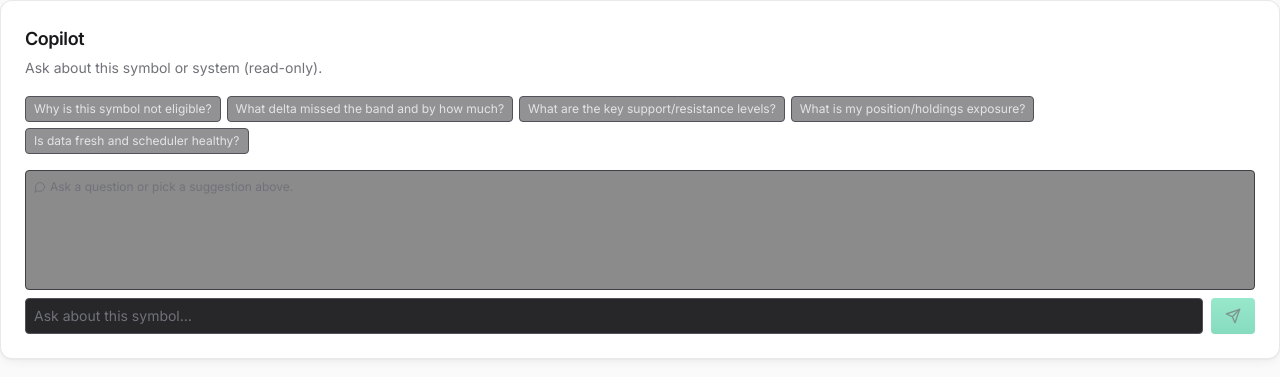
CopilotPanel R23.4 › submits input on send and shows answer markdown
The image size is (1280, 377).
Step 1. Type "What is my exposure?" into the field with placeholder "Ask about this symbol…" → [614, 316], box [25,298,1203,334]
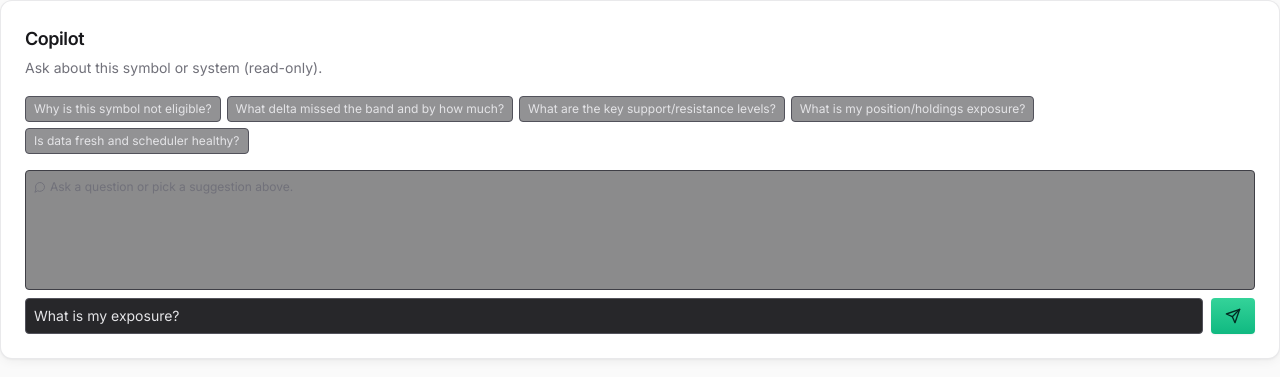
Step 2. Submit the form with placeholder "Ask about this symbol", box [25,298,1255,334]
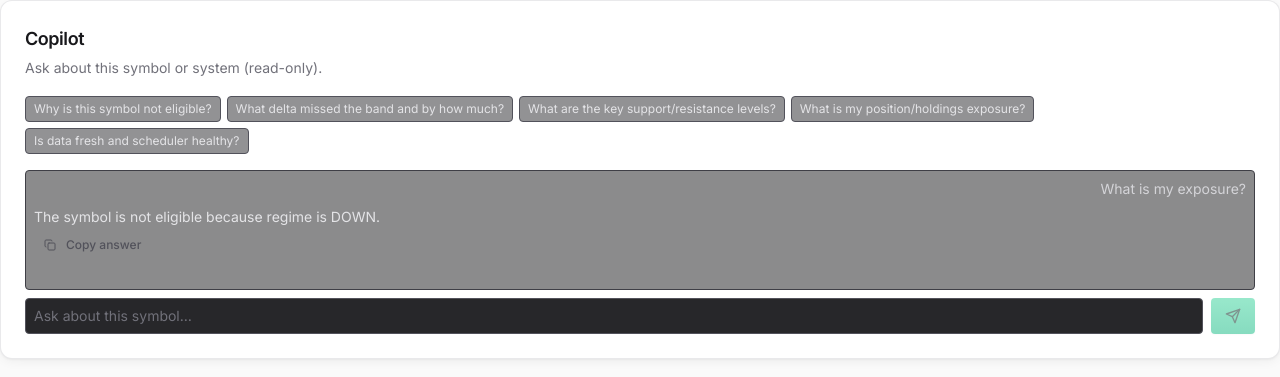
Result: the text "The symbol is not eligible because regime is DOWN." is shown at [34,208,380,225]
